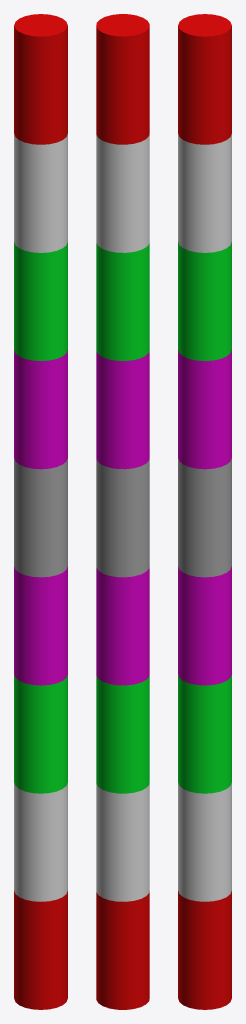
Rendered from Pole.fbx.
The picture shows the model from 3 angles, left to right: view 1: azimuth 90°, elevation 25°; view 2: azimuth 150°, elevation 25°; view 3: azimuth 270°, elevation 25°; orthographic projection.
Visible parts, largest first — view 1: Pole; view 2: Pole; view 3: Pole.
Part boxes in pixels (x1,y1,x2,y2): Pole: [14, 14, 67, 1009]; Pole: [96, 14, 149, 1009]; Pole: [178, 14, 231, 1009].
Bounding box in the file's own units: 0.2 × 4 × 0.2.
